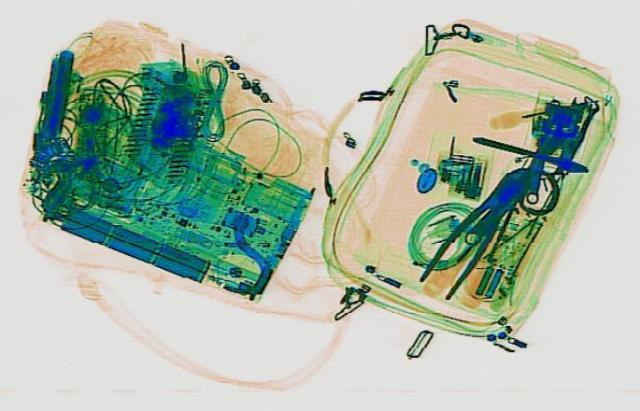Pliers: (402, 159, 550, 300)
